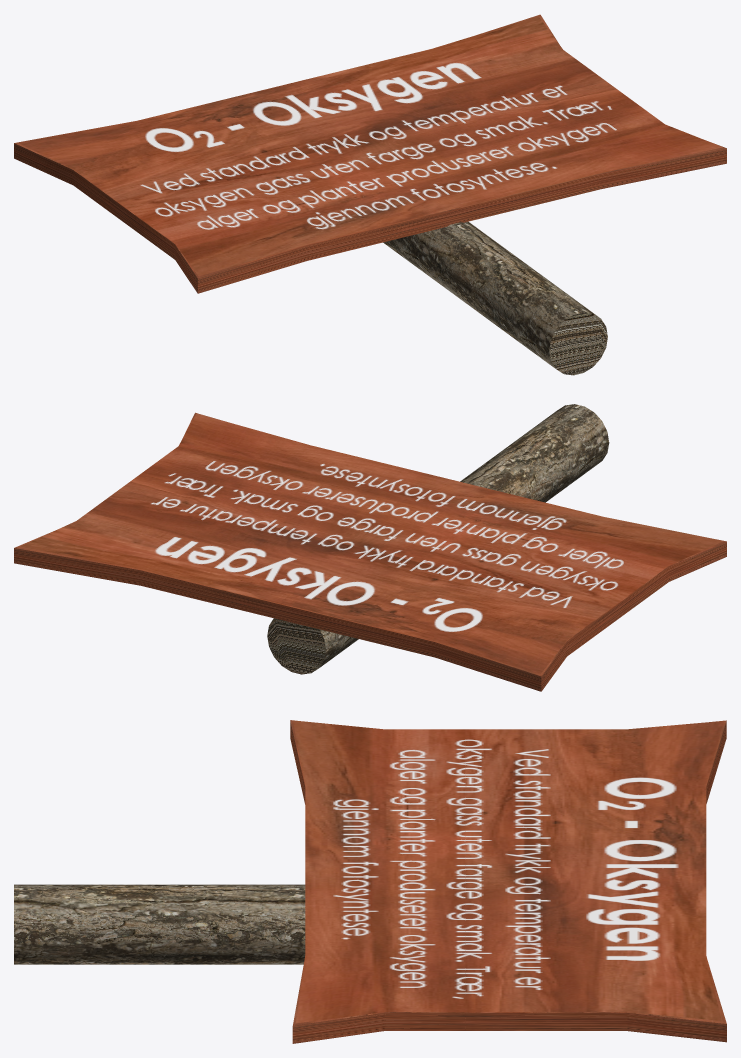
The model's file is SkiltO2_2.FBX.
3 views of the same model, one above another, from view 1: azimuth 30°, elevation 25°; view 2: azimuth 150°, elevation 25°; view 3: azimuth 270°, elevation 25° (orthographic). The views are drawn at different scales.
Parts seen in each view (by area): view 1: O2; view 2: O2; view 3: O2.
Part boxes in pixels (x1,y1,x2,y2): O2: (14,14,726,375); O2: (14,404,726,691); O2: (14,720,726,1043).
Bounding box in the file's own units: 108 × 14.69 × 107.
3 materials, 3 textured.
